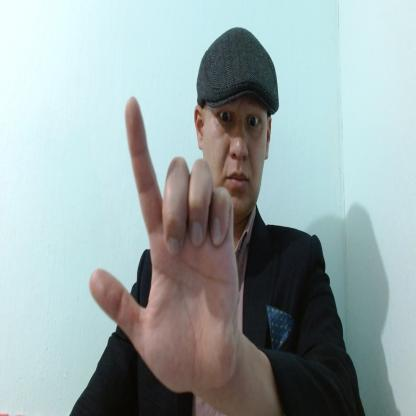L: (90, 96, 238, 392)
